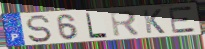6: (56, 13, 80, 41)
E: (167, 5, 198, 34)
K: (141, 9, 167, 35)
L: (85, 12, 109, 40)
R: (109, 9, 142, 38)
S: (24, 14, 54, 44)
